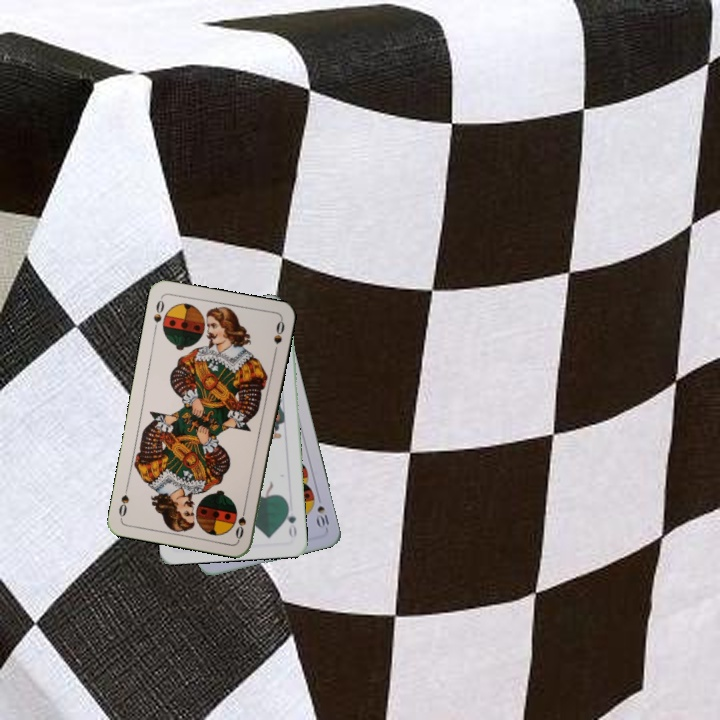GO: (281, 500, 299, 540)
S10: (313, 491, 332, 531)
SO: (231, 501, 249, 542), (149, 294, 167, 334)
